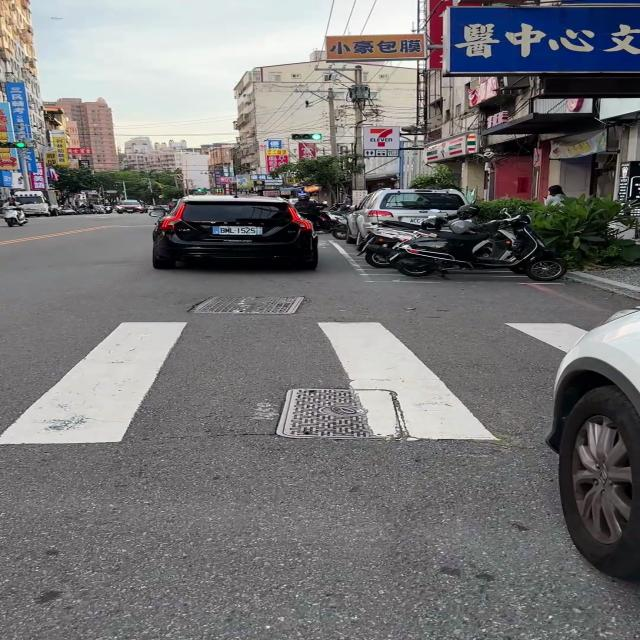car: (547, 309, 640, 579), (152, 195, 318, 269), (346, 189, 468, 241)
crosswalk: (0, 319, 588, 445)
motocycle: (390, 215, 567, 281), (2, 206, 29, 227)
trunk: (13, 190, 60, 216)
